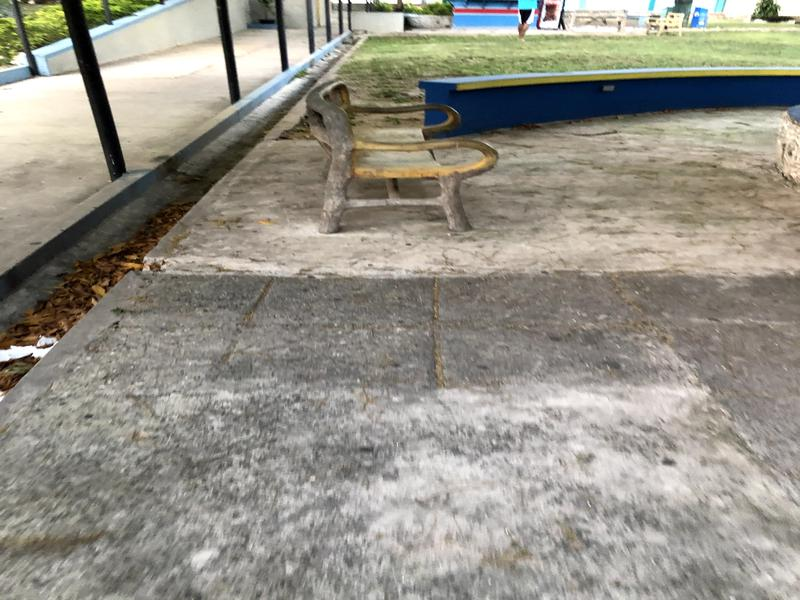18.0050864_-76.7496363_bench: (299, 70, 509, 241)
